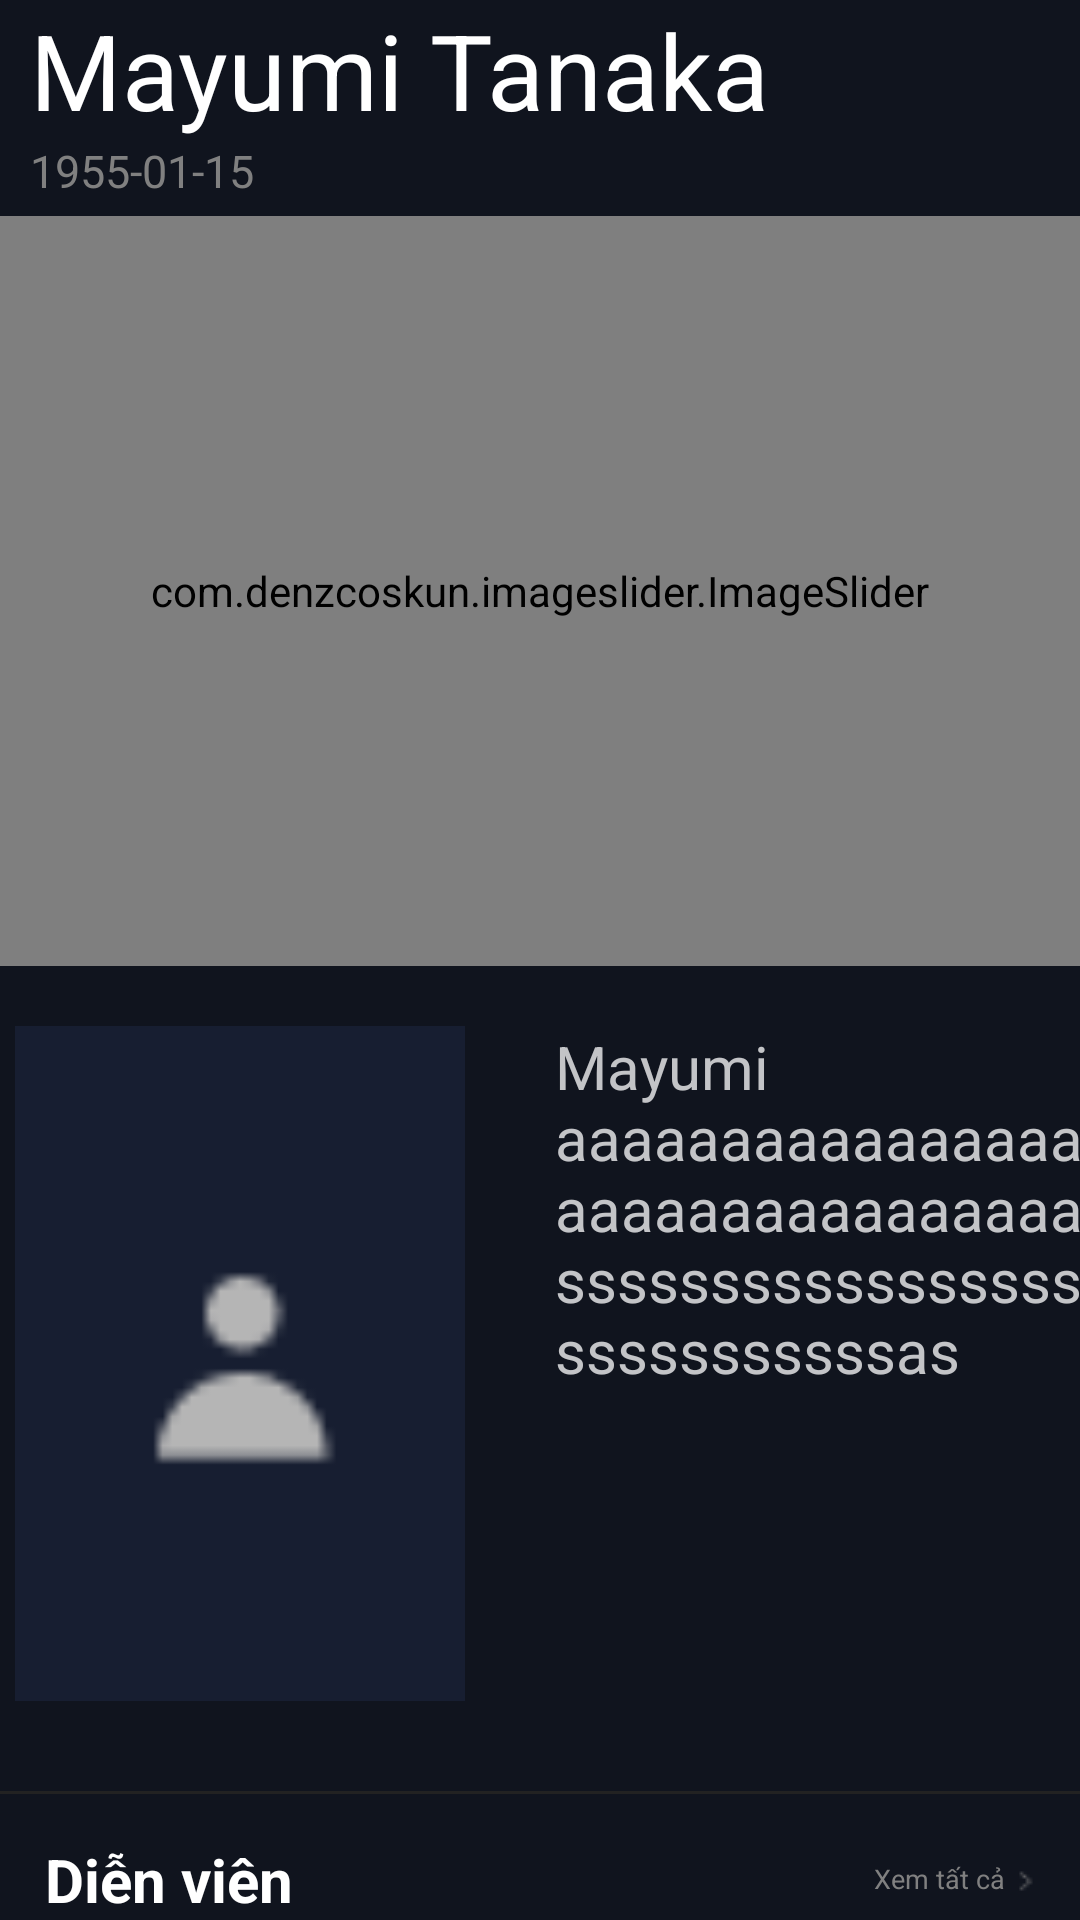

Icons on this 1080 × 1920 Android screen, each with its box as (x1, y1, x2, y2):
user: (154, 1272, 335, 1464)
